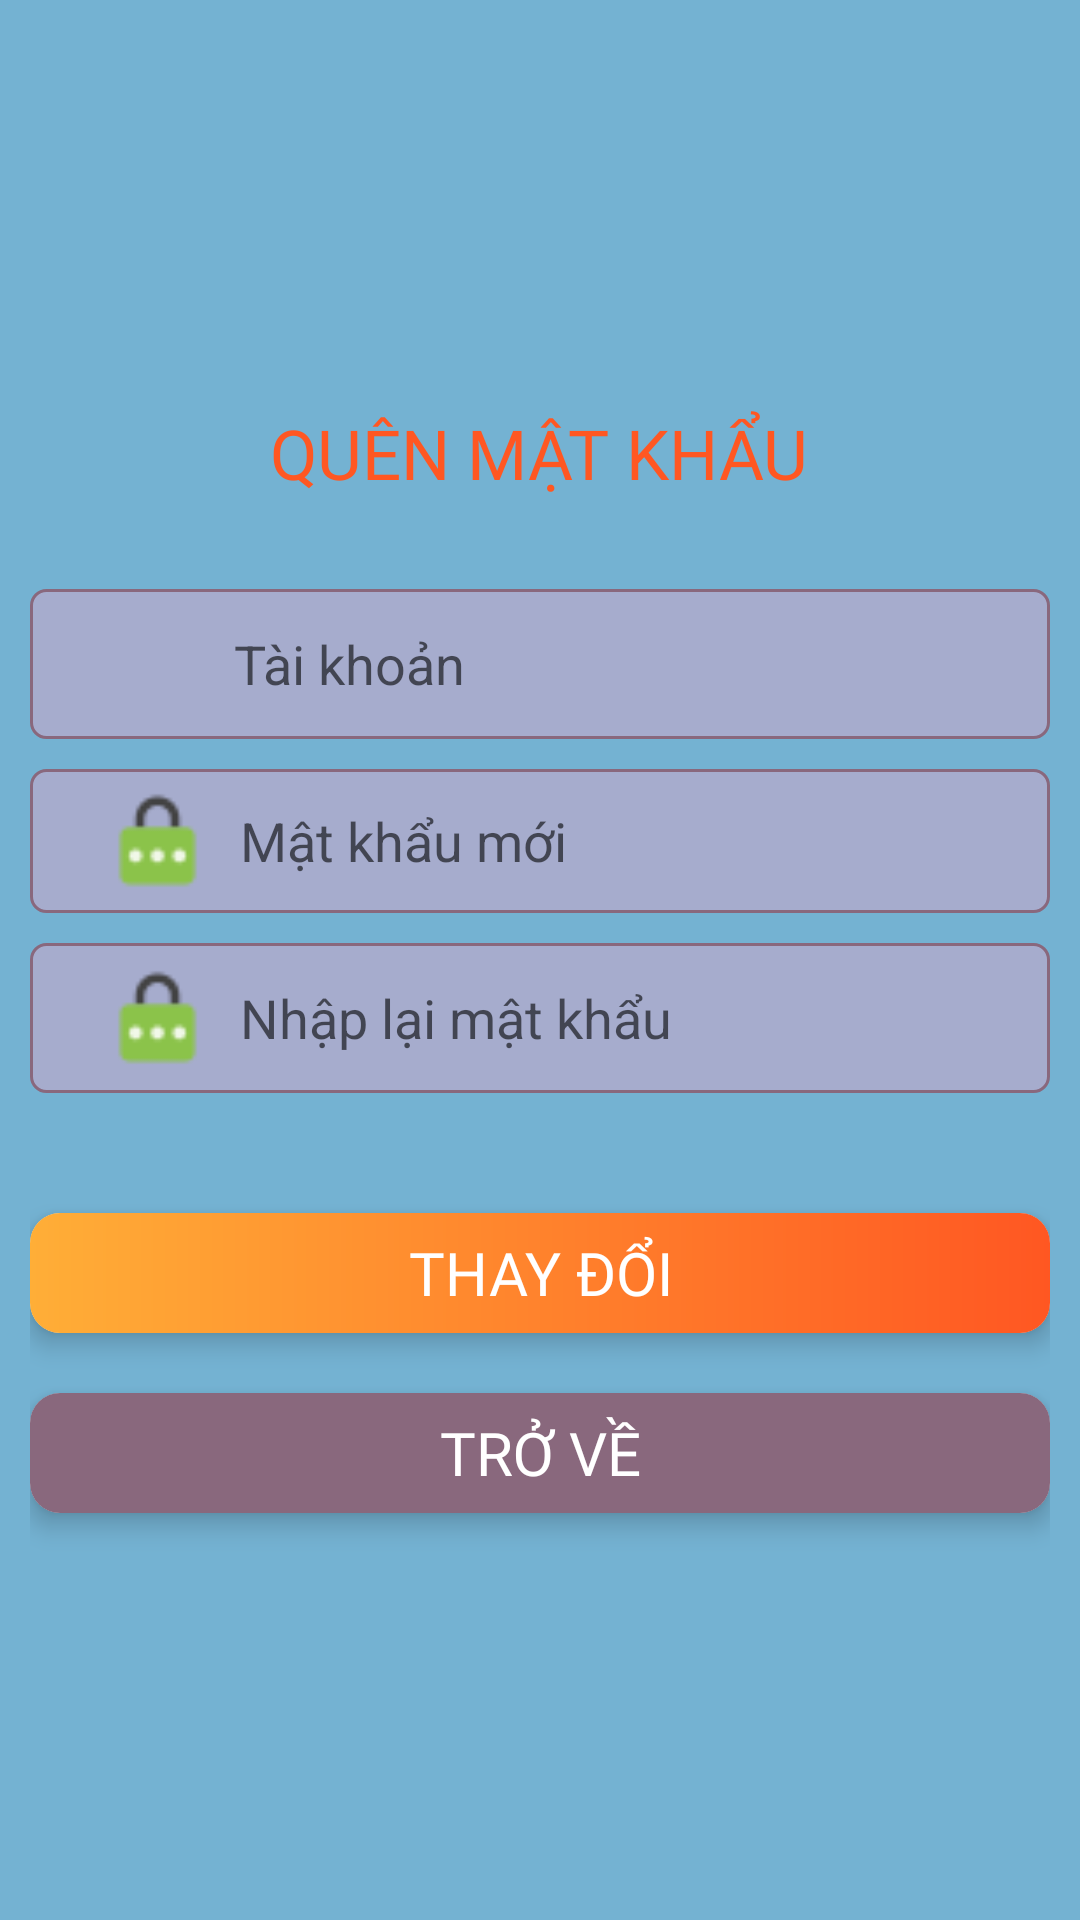

Point at icon controls on the screen. Image size 1080px x 1920px, points as point (x, y).
password: point (157, 841), point (157, 1018)
